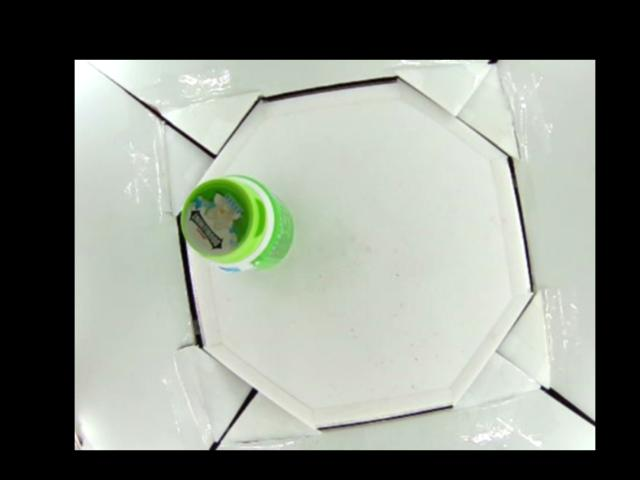Bottle: (181, 172, 297, 274)
